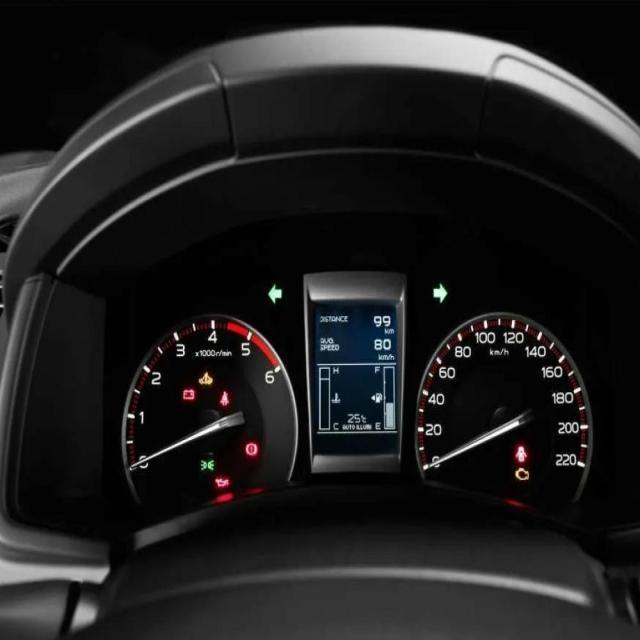Seat Belt: (219, 391, 228, 405)
